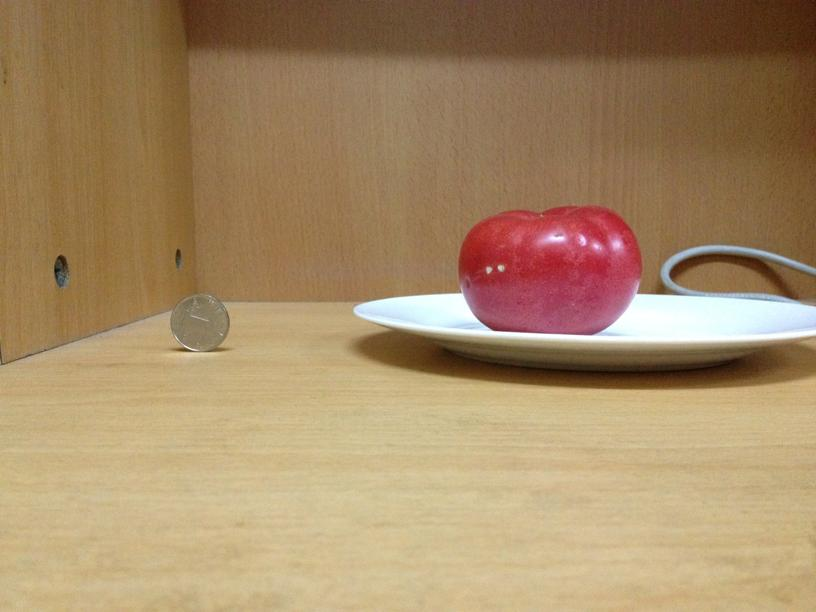coin: (169, 293, 230, 350)
tomato: (459, 205, 639, 336)
